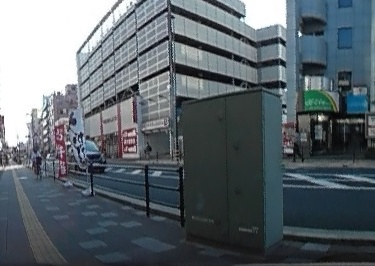person: (290, 128, 304, 162), (30, 148, 42, 175), (143, 140, 152, 156)
